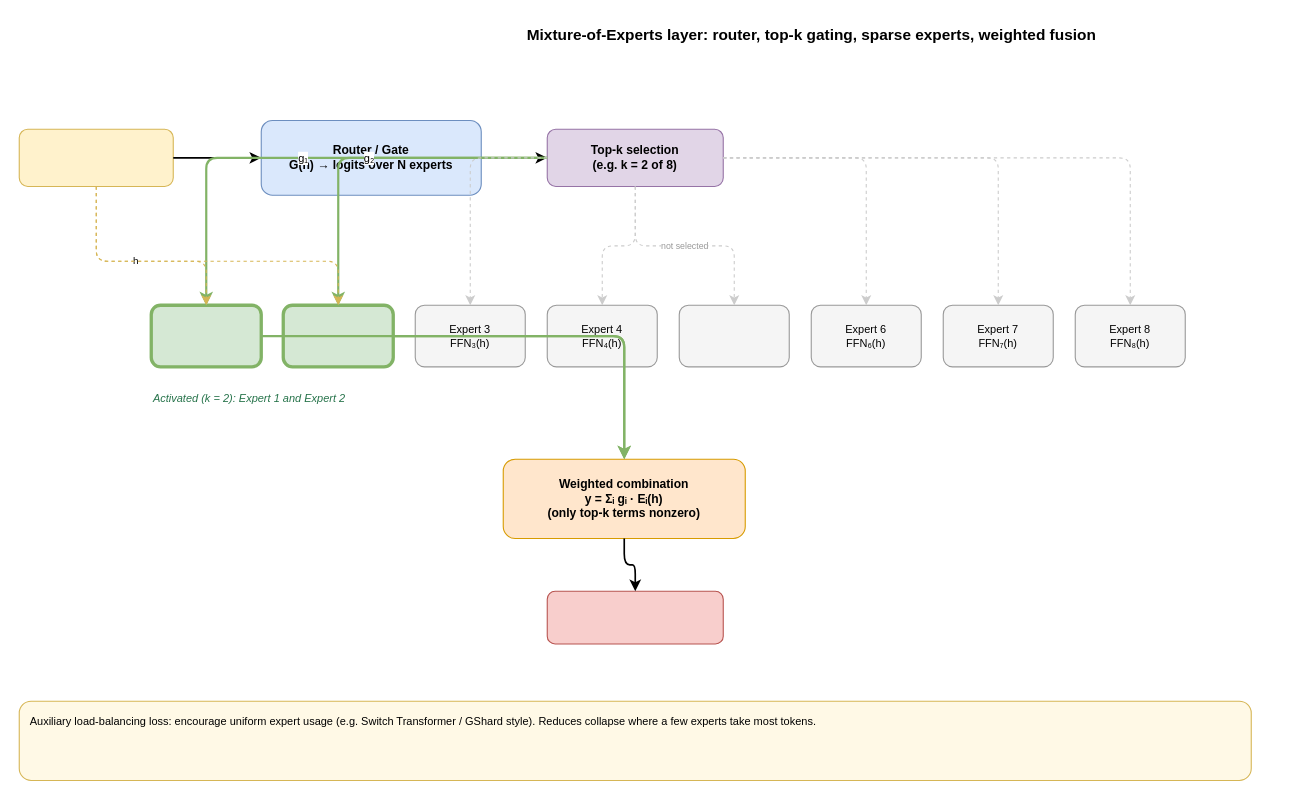
Some shapes in this 1315 by 800 pixel diagram are drawn without their labels. The shapes that lost their labels are listed below. From the top down, each one's centre as x and y in pixels, then its label:
At pixel 95 157: "Token embedding h ∈ ℝ^d".
At pixel 205 335: "Expert 1 FFN₁(h)".
At pixel 337 335: "Expert 2 FFN₂(h)".
At pixel 733 335: "Expert 5 FFN₅(h)".
At pixel 634 617: "Layer output (residual path optional)".
